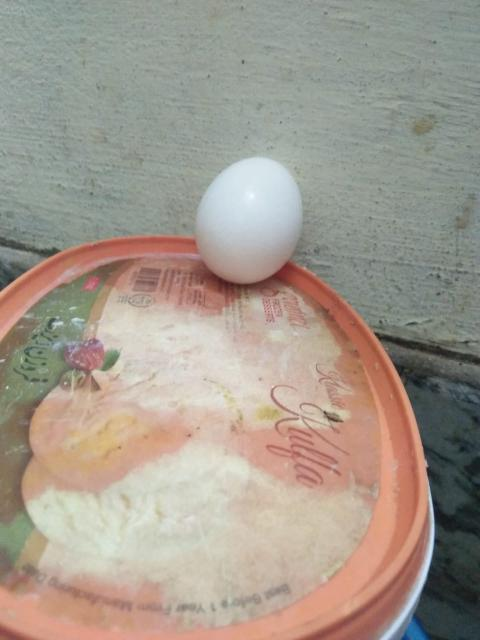Sano: (193, 155, 303, 285)
